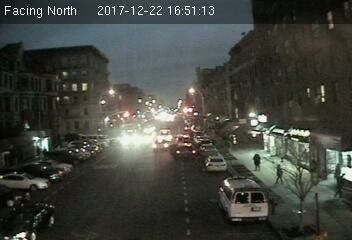car: (204, 155, 227, 171), (174, 144, 196, 160), (152, 138, 170, 151)
pedestrian: (251, 153, 263, 174)
police: (216, 175, 270, 224)
